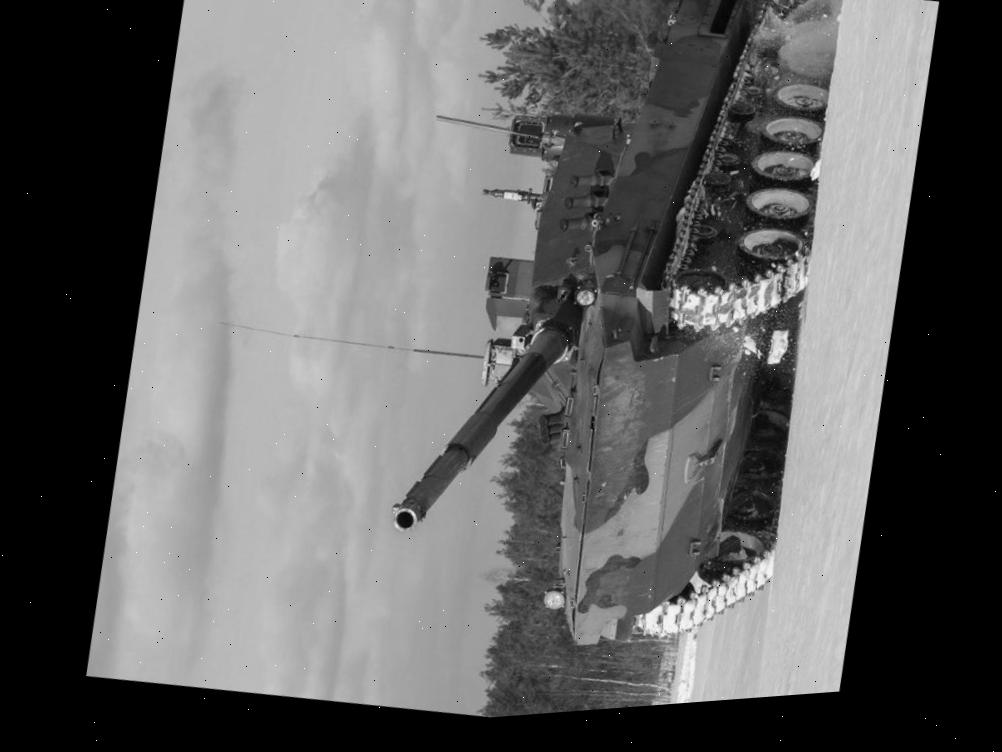tank: (350, 0, 879, 696)
